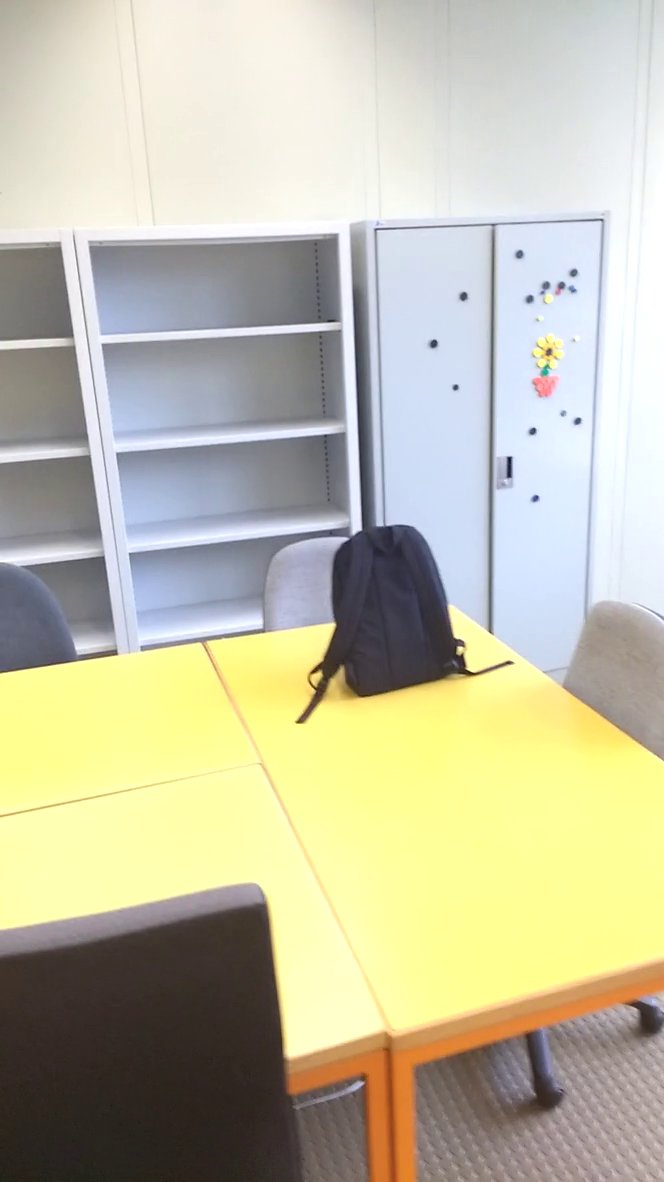bag: (292, 522, 523, 728)
chair: (554, 575, 664, 777)
